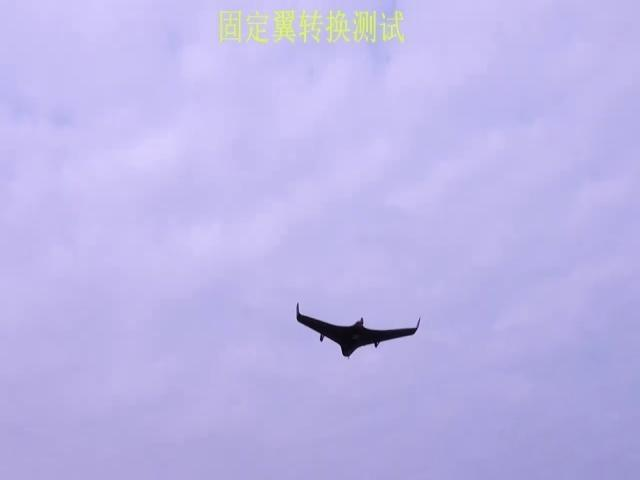Airplane: (295, 302, 421, 359)
